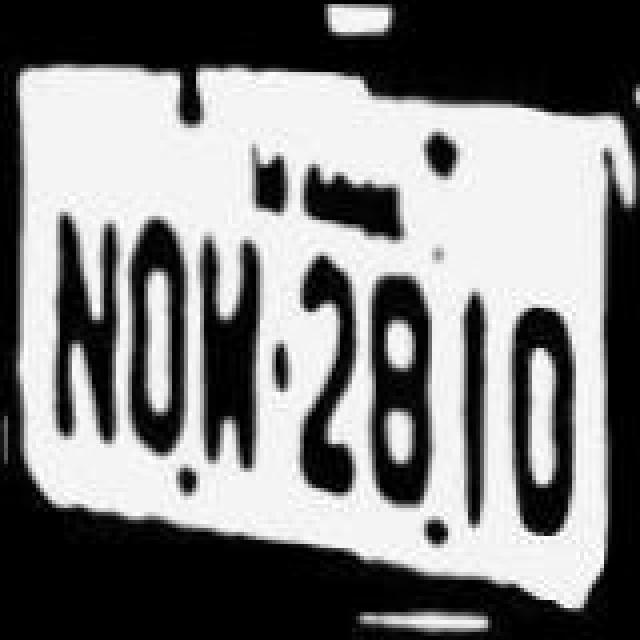1: (448, 278, 496, 530)
2: (292, 236, 368, 508)
8: (362, 264, 438, 516)
N: (34, 208, 122, 472)
O: (506, 284, 582, 544), (124, 220, 200, 476)
W: (194, 220, 274, 484)
